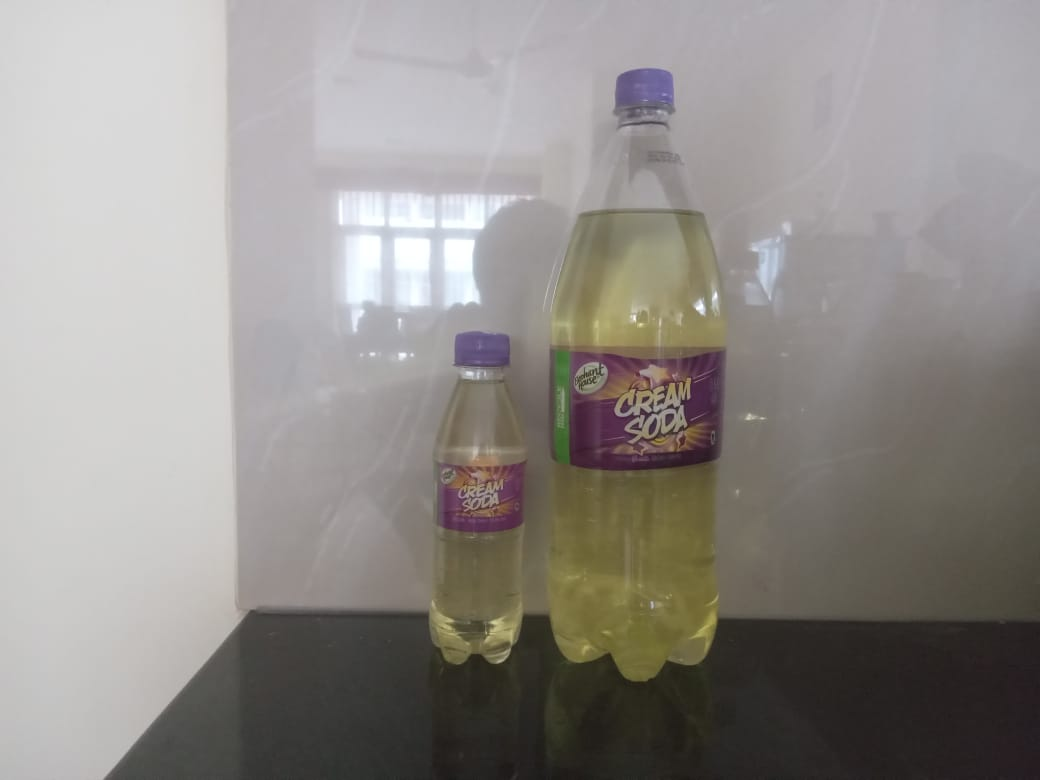L: (538, 60, 741, 700)
Xs: (426, 329, 530, 689)
